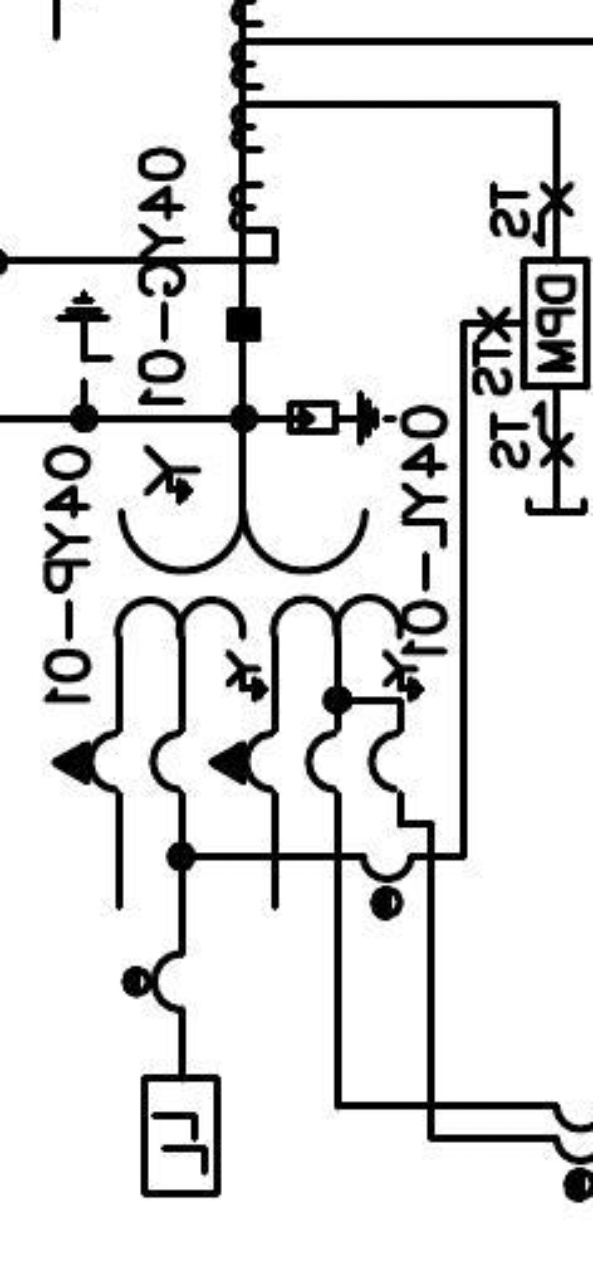115_gs: (52, 285, 116, 388)
115_la: (286, 386, 400, 448)
115_vt_3p: (49, 441, 426, 797)
DPM: (520, 255, 592, 389)
LL: (139, 1072, 222, 1198)
